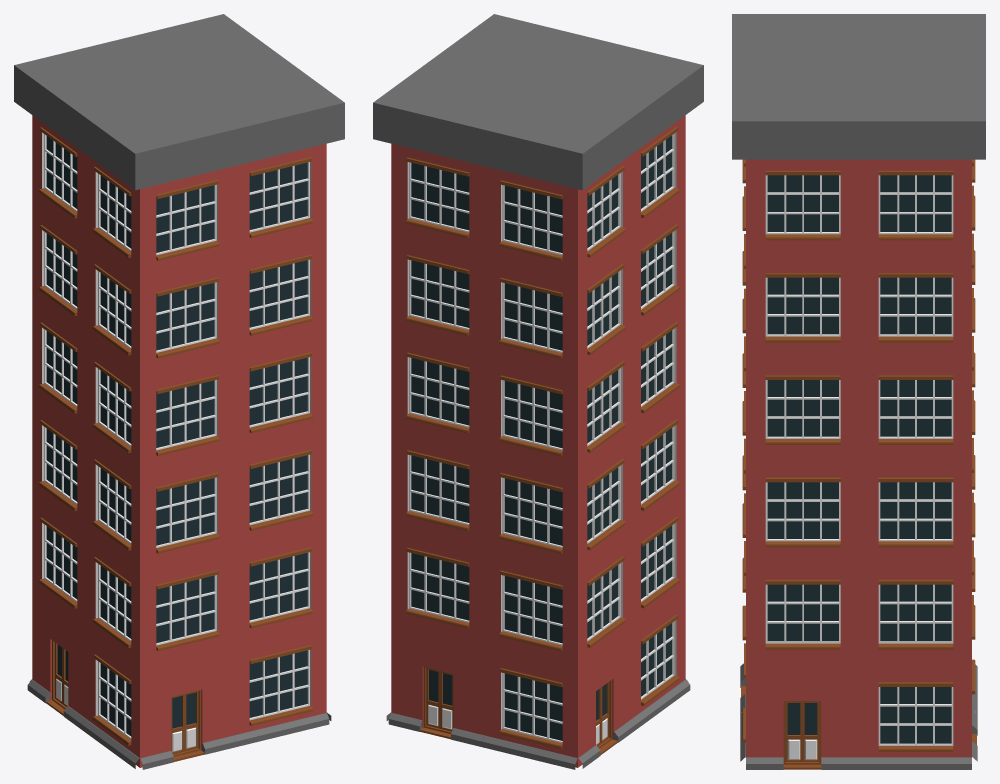
Rendered from 6x2 Tower.fbx.
The picture shows the model from 3 angles, left to right: view 1: azimuth 30°, elevation 25°; view 2: azimuth 150°, elevation 25°; view 3: azimuth 270°, elevation 25°; orthographic projection. The views are drawn at different scales.
Visible parts, largest first — view 1: Building; view 2: Building; view 3: Building.
Boxes of the visible parts, <box> form: Building: <box>14,14,344,769</box>; Building: <box>373,14,703,769</box>; Building: <box>732,14,985,769</box>.
Bounding box in the file's own units: 450 × 1275 × 450.
